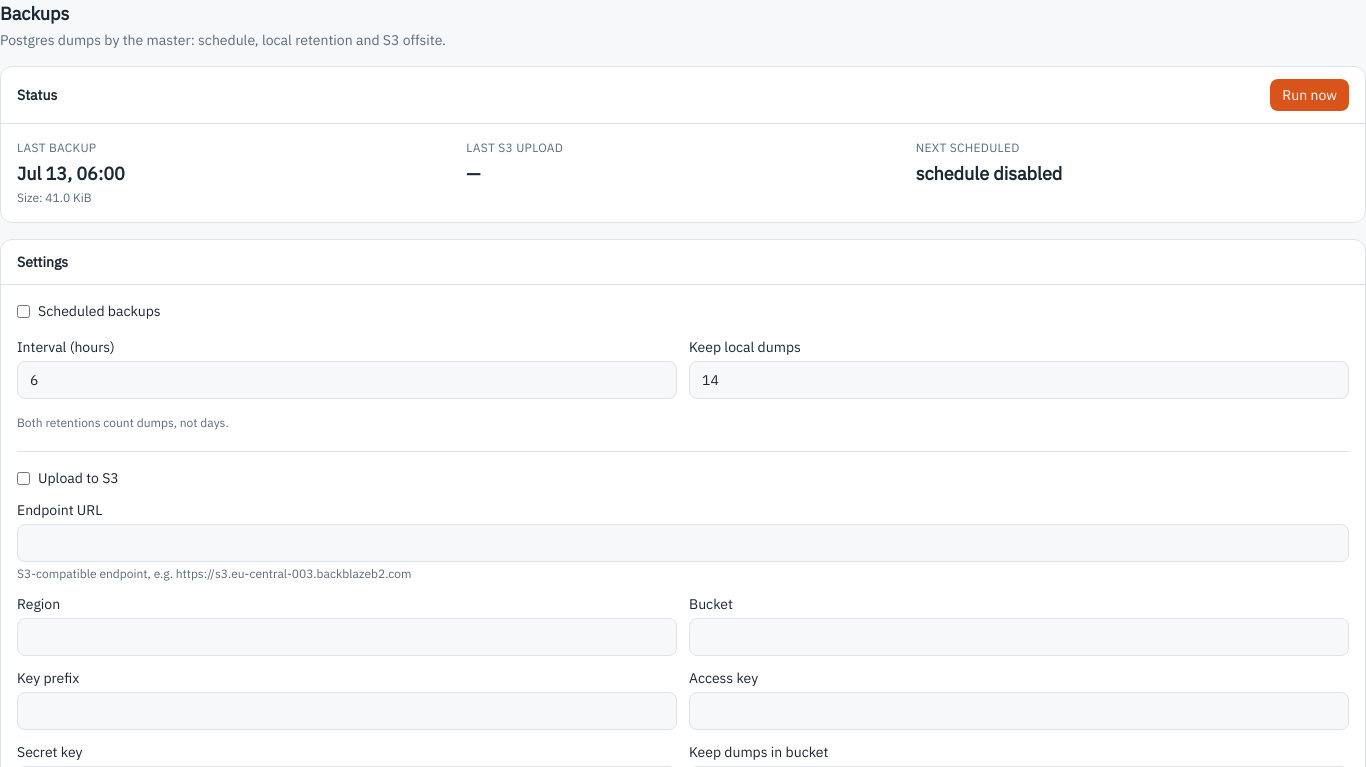
Test: Backups screen › Run now confirms via dialog when scheduled backups are disabled
Check: the text "Last backup" is shown, box [17,140,96,155]
Click the button "Run now".
click(1310, 95)  # box [1270,79,1349,111]
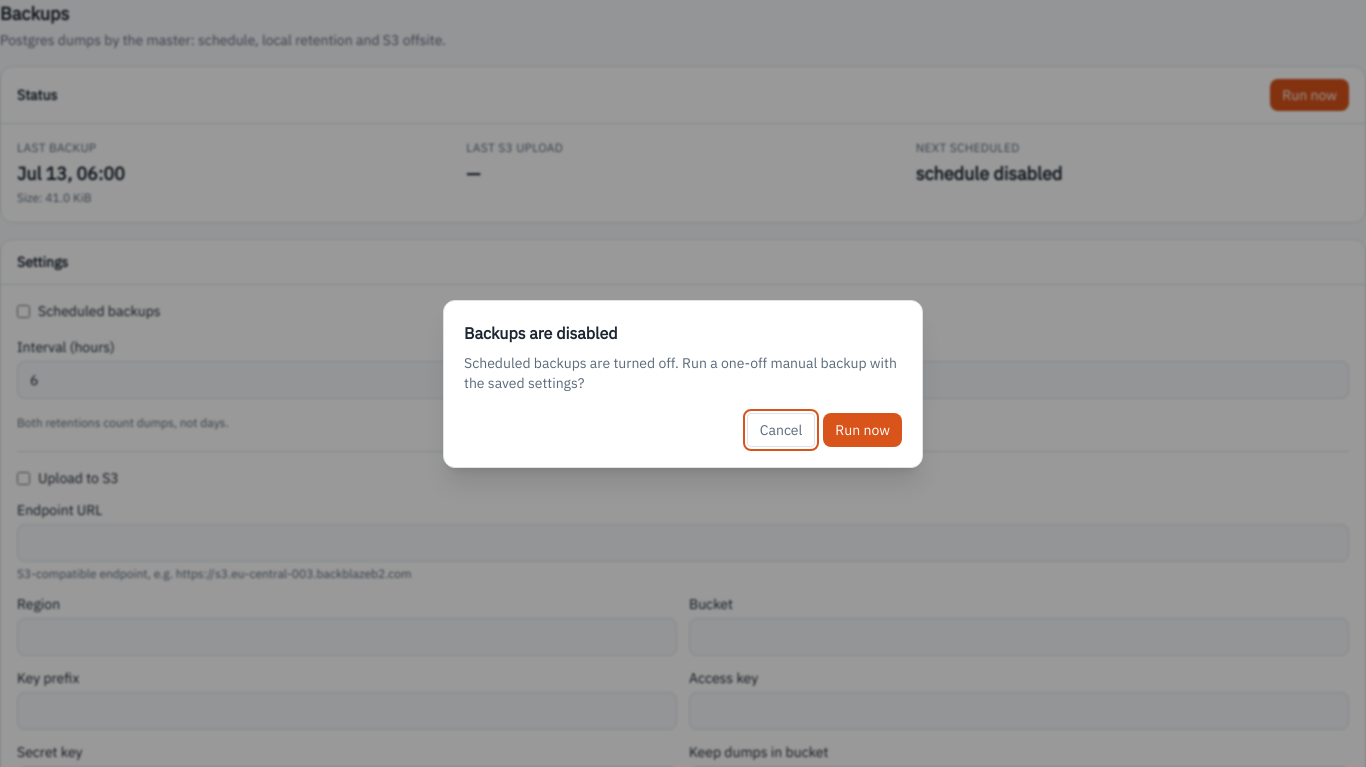
Check: the heading "Backups are disabled" is shown, box [464,323,618,343]
Click the button "Cancel".
click(781, 430)  # box [747,413,815,447]
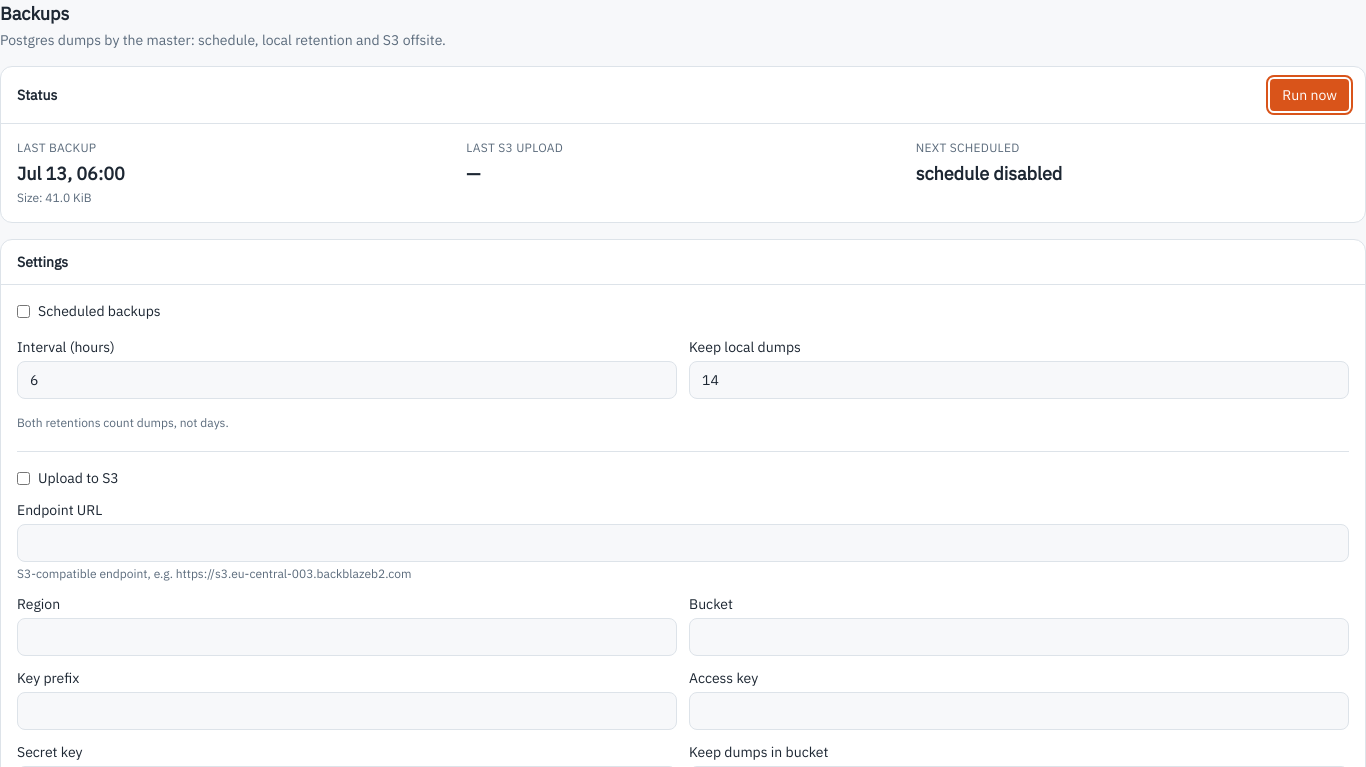
Check: the dialog is gone
Click the button "Run now".
click(1310, 95)  # box [1270,79,1349,111]
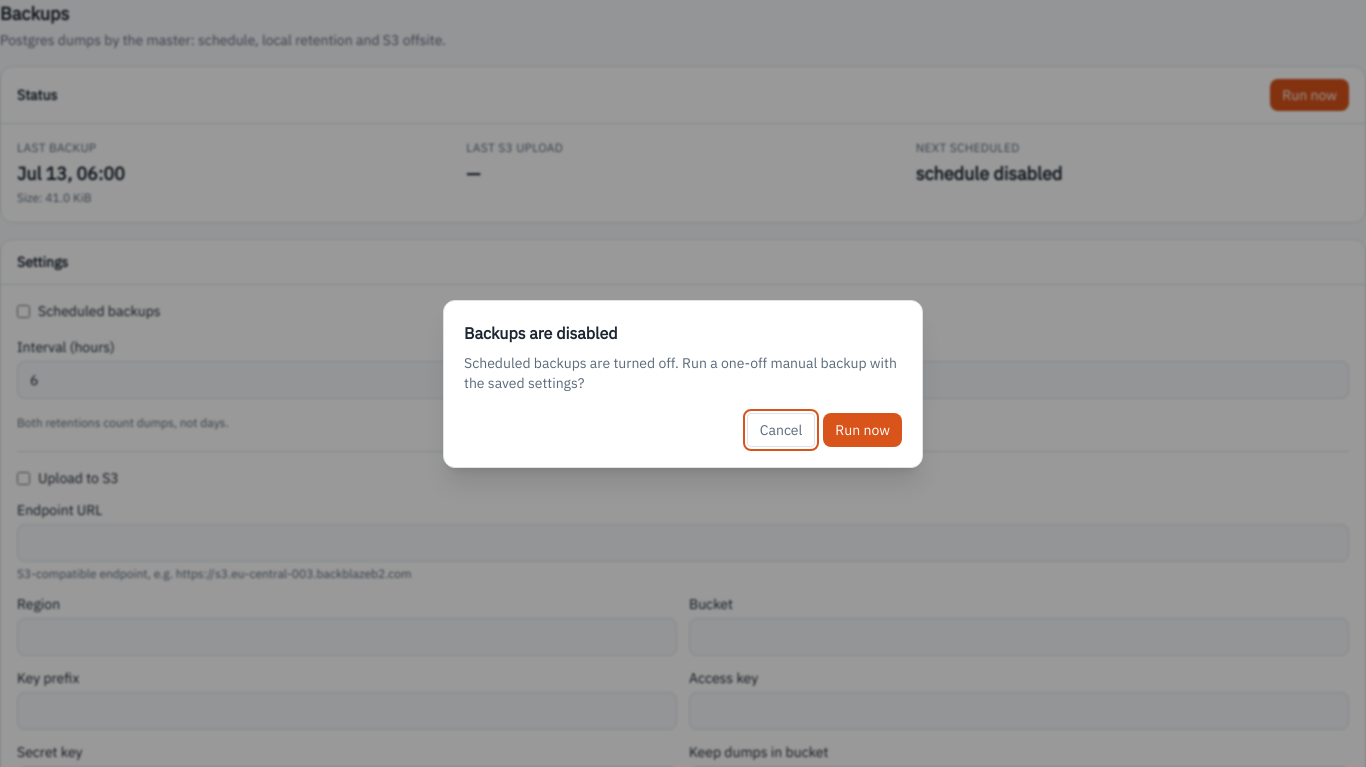
Click the button "Run now".
click(863, 430)  # box [823,413,902,447]
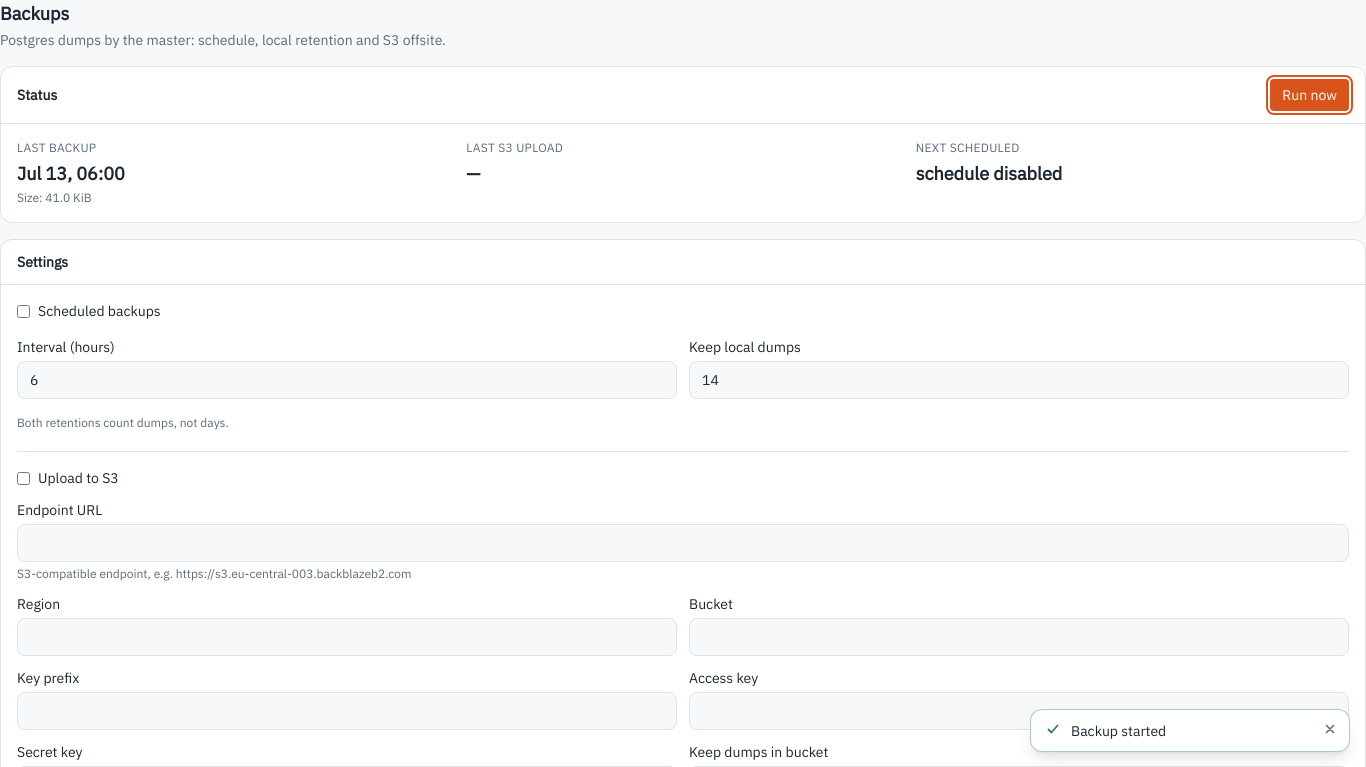
Check: the text "Backup started" is shown, box [1071,722,1166,740]
